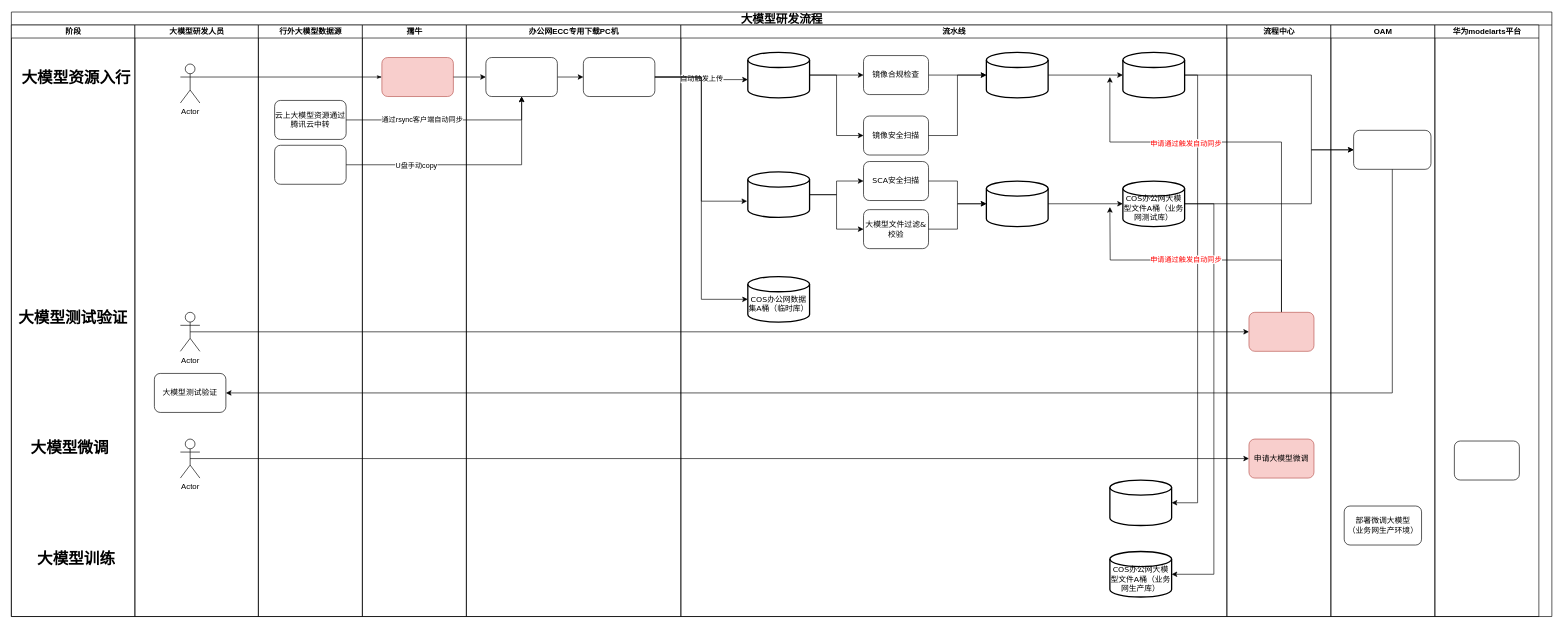
This 1563x629 diagram has some shape labels left out. Here are the shapes that lost their labels. From the top down, the centre of each, then its label:
At (x=417, y=77): "申请大模型资源入行".
At (x=521, y=77): "下载大模型资源".
At (x=619, y=77): "大模型文件安全扫描".
At (x=778, y=74): "大模型基础镜像A仓库（临时库）".
At (x=1016, y=74): "大模型基础镜像A仓库（办公网测试库）".
At (x=1153, y=74): "大模型基础镜像A仓库（业务网测试库）".
At (x=310, y=164): "云下大模型性资源通过U盘copy".
At (x=1392, y=149): "部署大模型 （业务网测试环境）".
At (x=778, y=194): "COS办公网大模型文件A桶 （临时库）".
At (x=1016, y=203): "COS办公网大模型文件A桶 （办公网测试库）".
At (x=1281, y=331): "申请大模型测试验证".
At (x=1140, y=502): "大模型基础镜像A仓库（业务网生产库）".
